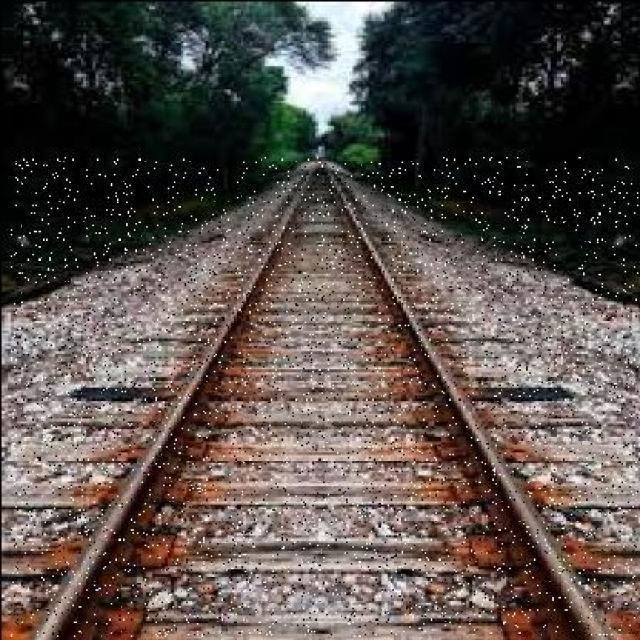rail: (9, 155, 637, 635)
